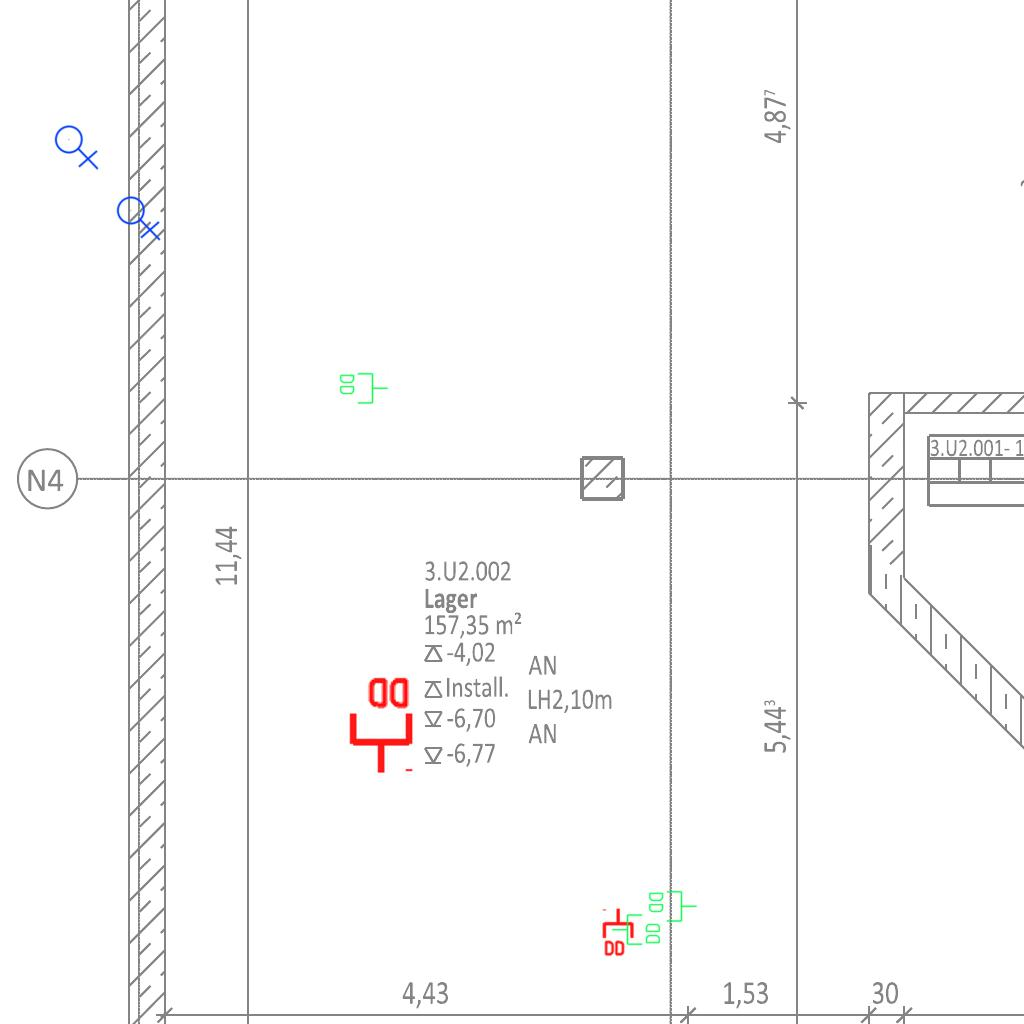Datenanschluss_zweifach: (345, 673, 414, 776), (647, 889, 698, 923), (602, 907, 636, 958), (338, 371, 389, 405), (611, 913, 662, 947)
Elektroanschluss_allgemein_230V_Geraeteanschlussdose_230V: (54, 121, 101, 170), (116, 192, 163, 241)
